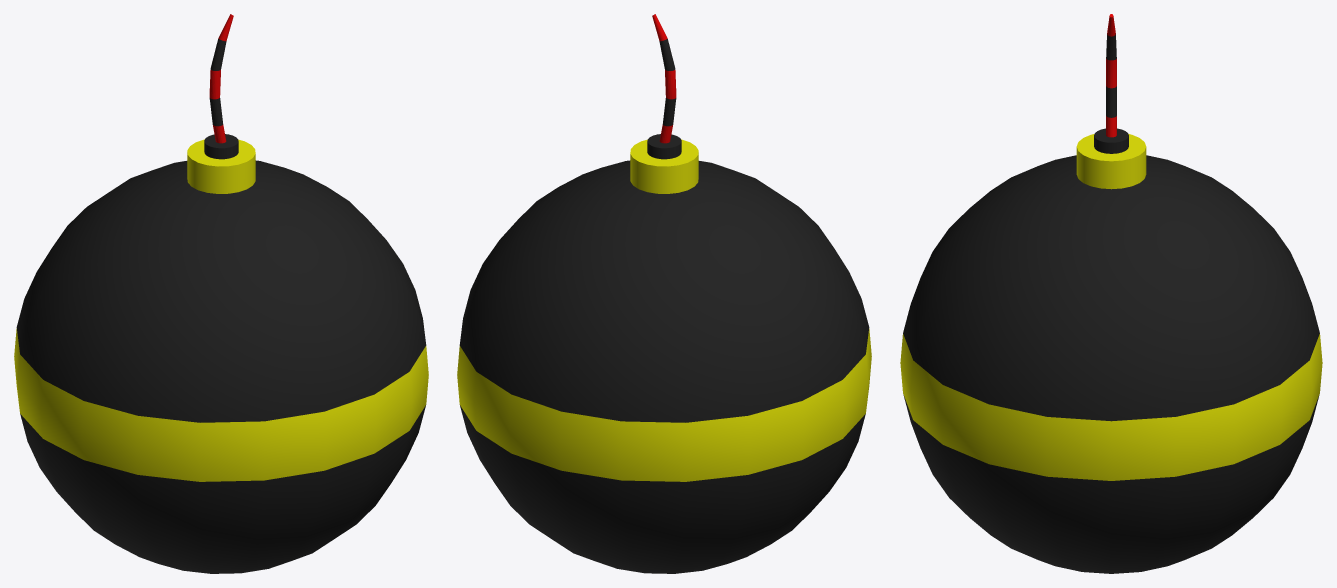
Rendered from bomb.fbx.
3 views of the same model, side by side, from view 1: azimuth 30°, elevation 25°; view 2: azimuth 150°, elevation 25°; view 3: azimuth 270°, elevation 25° (orthographic).
Visible parts, largest first — view 1: pCylinder5; view 2: pCylinder5; view 3: pCylinder5.
Boxes of the visible parts, <box> form: pCylinder5: <box>14,14,428,573</box>; pCylinder5: <box>457,14,871,573</box>; pCylinder5: <box>900,14,1322,573</box>.
Bounding box in the file's own units: 2 × 2.85 × 2.
